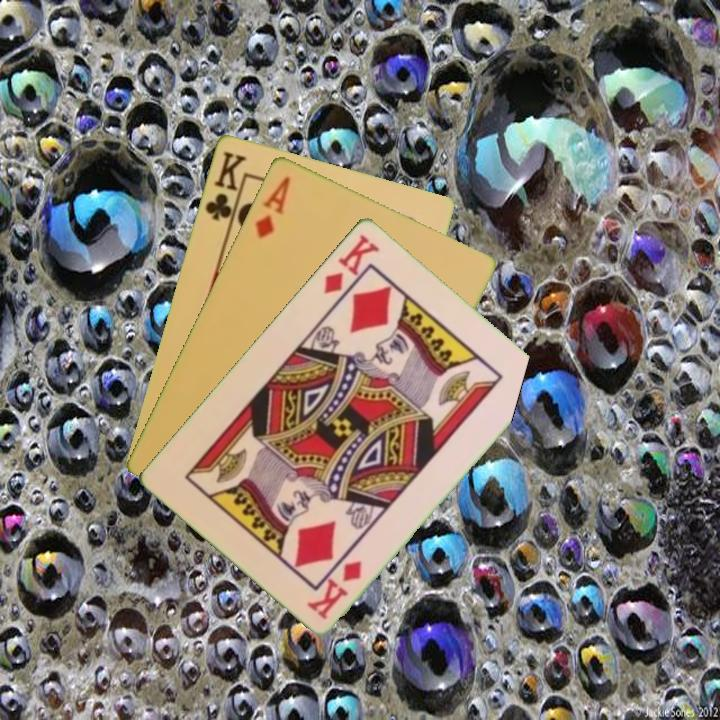Ad: (251, 172, 293, 241)
Kc: (201, 147, 249, 231)
Kd: (320, 230, 383, 296), (304, 555, 365, 622)
